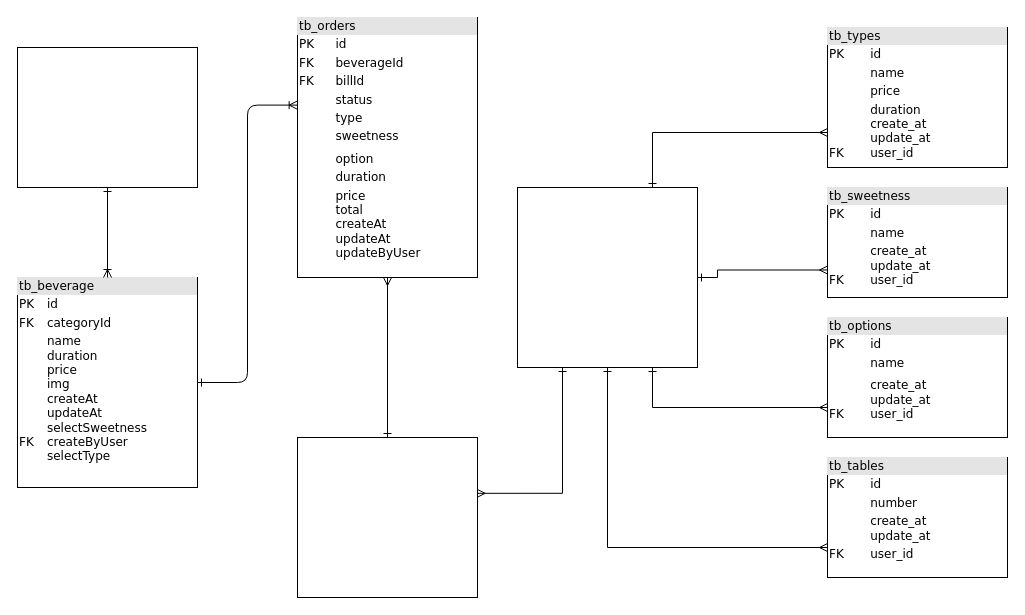
Some shapes in this 1025 by 615 pixel diagram are drawn without their labels. Each missing label, with the centre of its shape:
tb_bills PK id table FK updateByUser createAt updateAt amount status duration: the point at 387,517
tb_categories PK id name FK createAt updateAt updateByUser createByUser: the point at 107,117
tb_users PK id username name password name email createAt updateAt role img: the point at 607,277
